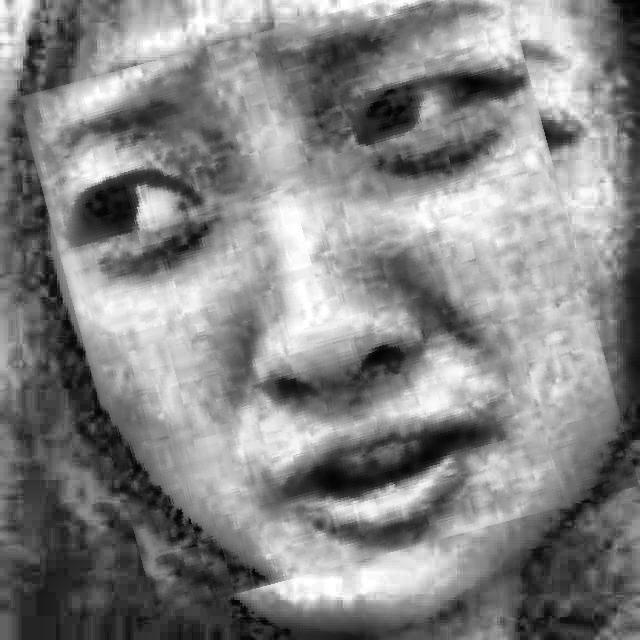fear: (48, 0, 609, 586)
